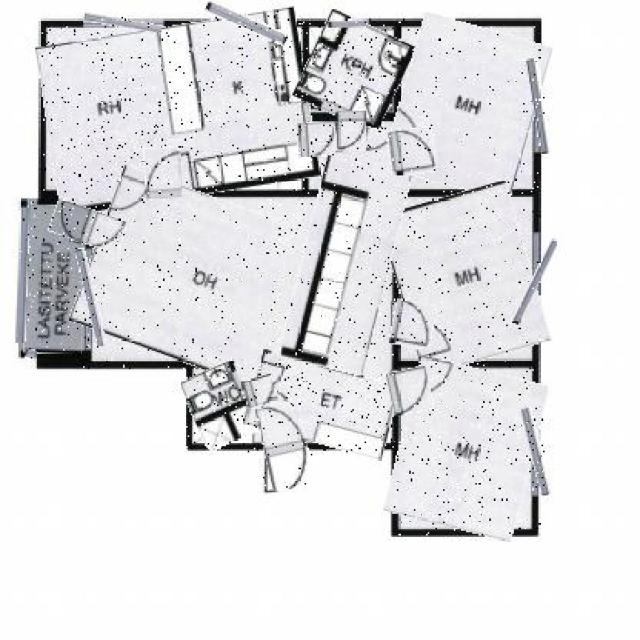door: (260, 402, 312, 489), (49, 203, 125, 249), (388, 128, 435, 175), (391, 300, 435, 348), (143, 148, 182, 198), (390, 368, 432, 414), (298, 123, 336, 157), (337, 112, 368, 152), (243, 377, 277, 408)
window: (205, 7, 288, 38), (522, 237, 548, 326), (80, 248, 102, 348), (526, 408, 546, 497), (530, 58, 548, 154), (18, 208, 28, 343), (83, 16, 162, 30), (328, 20, 366, 28), (25, 351, 37, 360), (31, 202, 35, 204)
zone: (41, 17, 314, 206), (80, 182, 329, 380), (292, 123, 406, 372), (389, 188, 540, 368), (392, 20, 543, 195), (391, 363, 540, 535), (248, 357, 397, 452), (300, 17, 408, 128), (24, 206, 84, 354), (188, 363, 258, 448)
